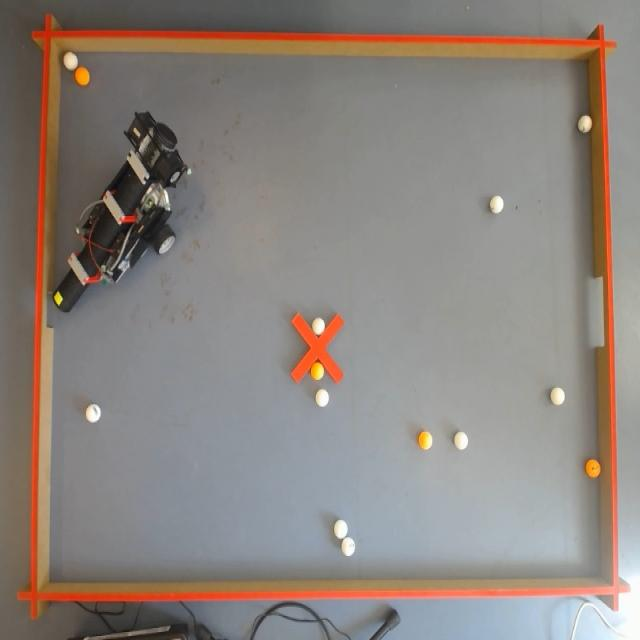orange: (416, 431, 432, 452), (584, 462, 600, 481), (310, 361, 322, 382), (75, 65, 89, 82)
robot: (50, 126, 184, 308)
robot-front: (53, 278, 76, 313)
white: (489, 194, 504, 214), (334, 517, 348, 538), (578, 115, 592, 134), (454, 430, 467, 450), (87, 405, 100, 424), (342, 536, 354, 556), (551, 389, 565, 406), (64, 52, 77, 70), (315, 391, 327, 408), (313, 315, 323, 333)
